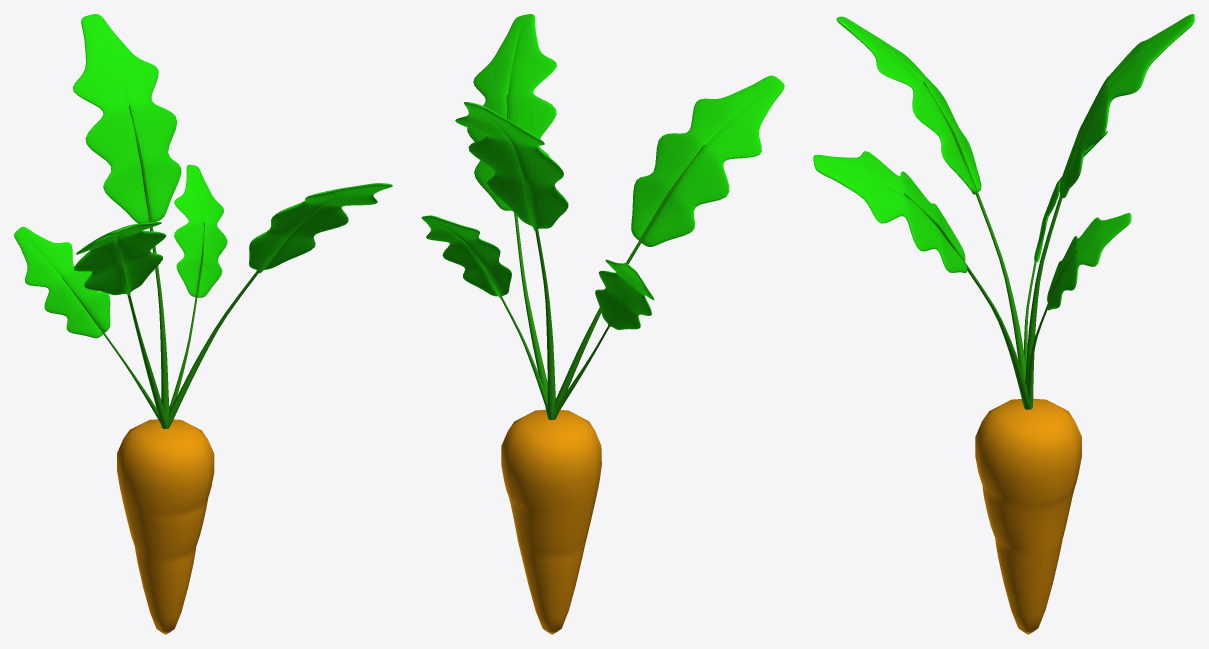
The model's file is CarrotStage5.fbx.
The picture shows the model from 3 angles, left to right: view 1: azimuth 30°, elevation 25°; view 2: azimuth 150°, elevation 25°; view 3: azimuth 270°, elevation 25°; orthographic projection. The views are drawn at different scales.
Parts seen in each view (by area): view 1: Carrot, Cylinder.001, Cylinder.004, Cylinder.003, Cylinder.005, Cylinder.002; view 2: Carrot, Cylinder.005, Cylinder.001, Cylinder.004, Cylinder.002, Cylinder.003; view 3: Carrot, Cylinder.004, Cylinder.005, Cylinder.001, Cylinder.002, Cylinder.003.
Part boxes in pixels (<box>): Carrot: <box>117,419,214,634</box>; Cylinder.001: <box>73,14,181,428</box>; Cylinder.004: <box>167,183,392,428</box>; Cylinder.003: <box>14,226,161,423</box>; Cylinder.005: <box>74,222,167,428</box>; Cylinder.002: <box>169,164,227,410</box>; Carrot: <box>501,409,601,634</box>; Cylinder.005: <box>553,75,784,419</box>; Cylinder.001: <box>455,102,568,419</box>; Cylinder.004: <box>467,14,556,416</box>; Cylinder.002: <box>421,215,547,411</box>; Cylinder.003: <box>556,259,654,414</box>; Carrot: <box>975,398,1081,634</box>; Cylinder.004: <box>813,151,1031,409</box>; Cylinder.005: <box>836,16,1026,381</box>; Cylinder.001: <box>1025,14,1194,409</box>; Cylinder.002: <box>1027,213,1131,402</box>; Cylinder.003: <box>1024,131,1107,364</box>.
Bounding box in the file's own units: 501 × 938 × 525.
